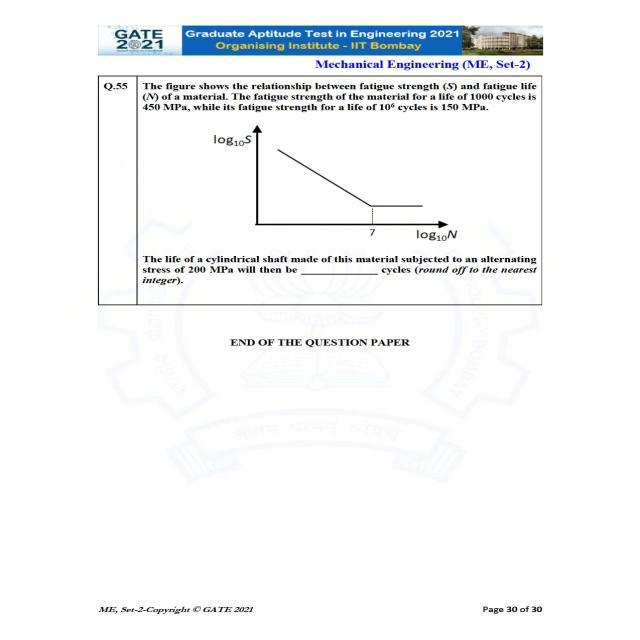Question_Answer_Block: (52, 71, 602, 338)
Question_Block: (52, 71, 602, 338)
Question_Paper_Area: (52, 71, 602, 338)
